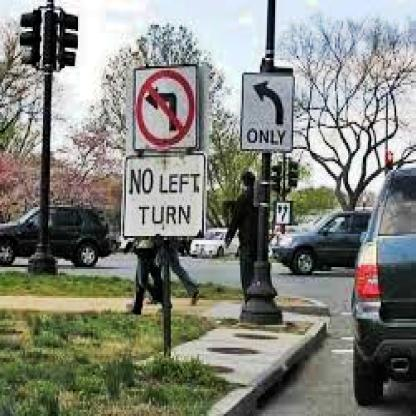No left turn: (136, 69, 200, 149)
